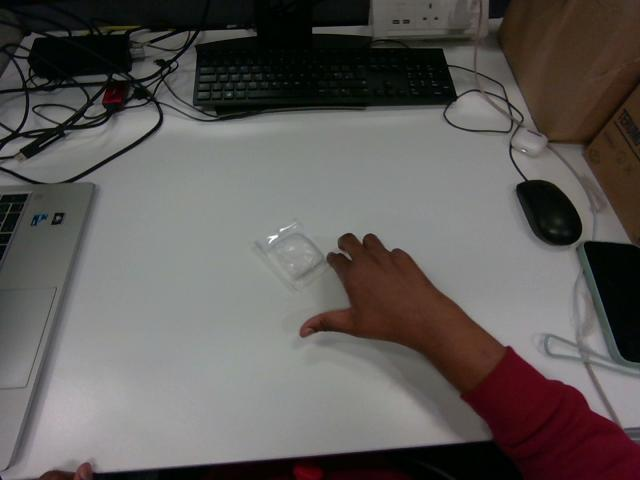gauze: (256, 221, 326, 290)
